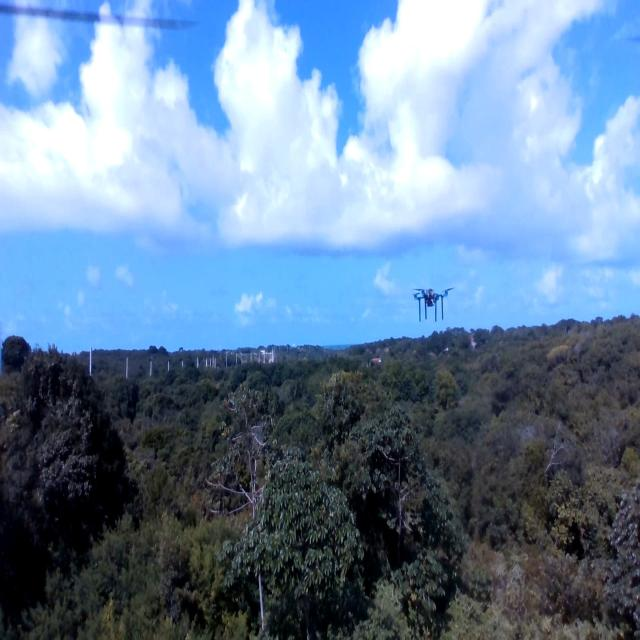-uav-: (404, 279, 458, 332)
